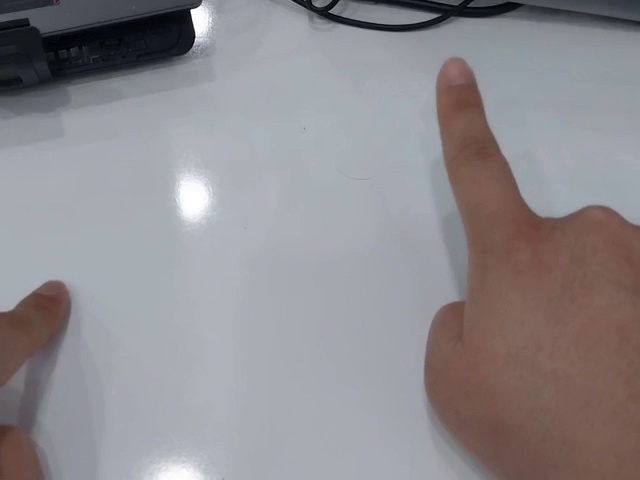fingers: (17, 279, 72, 344), (436, 56, 483, 102)
